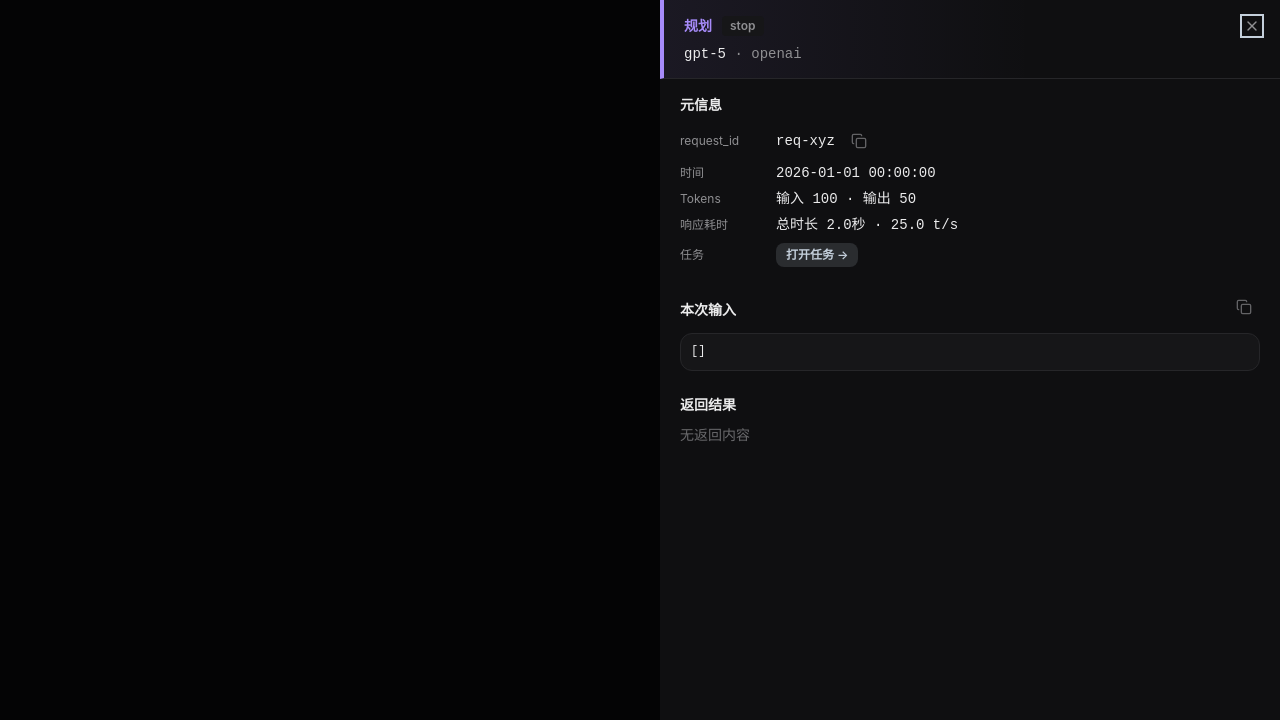
Test: LlmInvocationDrawer › 复制按钮：点击复制 request_id
request_id 旁的复制按钮是图标态（CopyButton 以 aria-label 表达复制/已复制态）。
Step 1. Click the button named "复制" next to "req-xyz" → (859, 141), box 843,125 -> 875,157
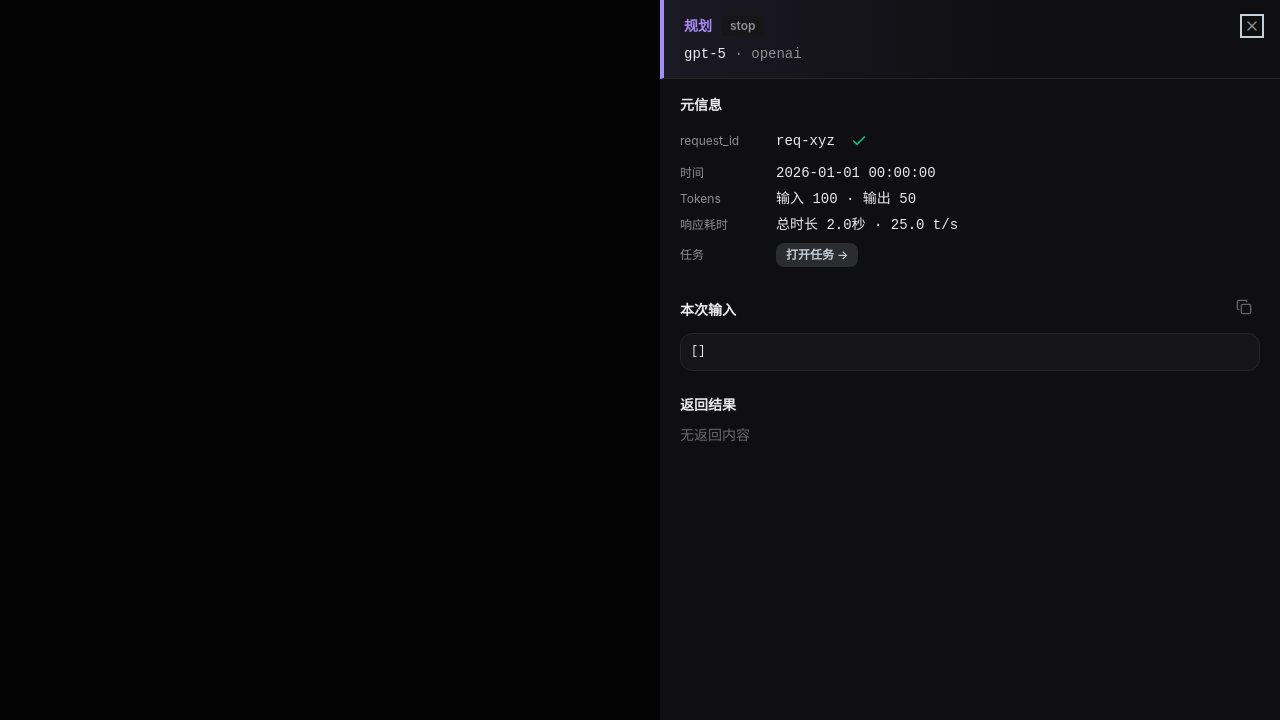
Result: the button named "已复制" is shown at 843,125 -> 875,157
